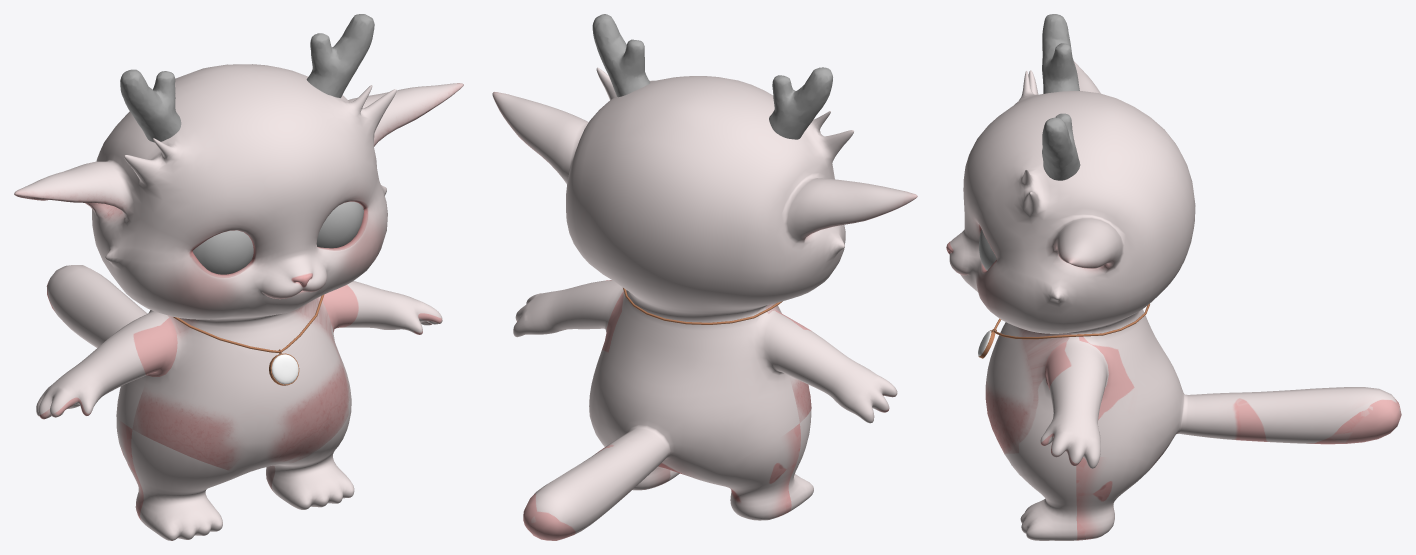
The model's file is Yeti_Base.fbx.
3 renders of one model, left to right at view 1: azimuth 30°, elevation 25°; view 2: azimuth 150°, elevation 25°; view 3: azimuth 270°, elevation 25°, orthographic. The views are drawn at different scales.
Parts seen in each view (by area): view 1: Yeti_Base, Yeti_Horns, Yeti_Cornea_R, Yeti_Cornea_L, Necklace; view 2: Yeti_Base, Yeti_Horns, Necklace; view 3: Yeti_Base, Yeti_Horns, Necklace.
Part boxes in pixels (bbox=[...]): Yeti_Base: bbox=[14, 64, 463, 540]; Yeti_Horns: bbox=[120, 14, 374, 142]; Yeti_Cornea_R: bbox=[193, 230, 253, 274]; Yeti_Cornea_L: bbox=[316, 201, 363, 248]; Necklace: bbox=[173, 295, 323, 385]; Yeti_Base: bbox=[492, 67, 917, 540]; Yeti_Horns: bbox=[592, 14, 832, 139]; Necklace: bbox=[623, 288, 782, 324]; Yeti_Base: bbox=[946, 61, 1401, 540]; Yeti_Horns: bbox=[1042, 14, 1080, 180]; Necklace: bbox=[978, 304, 1149, 358].
Size of the model in its own units: 89.89 by 90.06 by 85.21.
